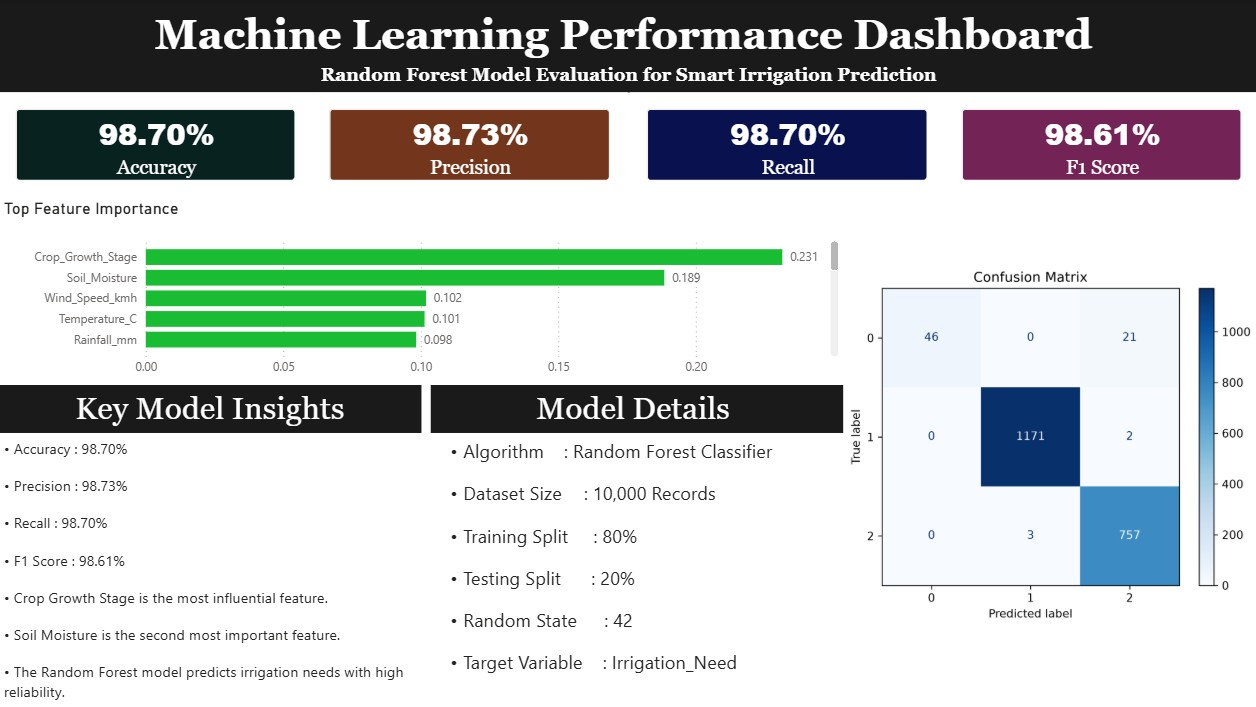

This screenshot's page, from the dashboard's own definition file:
{"tool":"powerbi","page":{"name":"Page 3","canvas":[1280,720],"ordinal":2},"visuals":[{"type":"textbox","box":[0,0,1280.7,93.6],"z":0},{"type":"cardVisual","fields":{"Data":["Sum(model_metrics.Value)"]},"box":[0,93.6,318.4,107.5],"z":1000},{"type":"cardVisual","fields":{"Data":["Sum(model_metrics.Value)"]},"box":[318.4,93.6,319.8,107.5],"z":2000},{"type":"cardVisual","fields":{"Data":["Sum(model_metrics.Value)"]},"box":[641,93.6,319.8,107.5],"z":3000},{"type":"cardVisual","fields":{"Data":["Sum(model_metrics.Value)"]},"box":[960.9,93.6,318.4,107.5],"z":4000},{"type":"clusteredBarChart","title":"Top Feature Importance","fields":{"Category":["feature_importance.Feature"],"Y":["Sum(feature_importance.Importance)"]},"box":[0,201.1,857.5,189.9],"z":5000},{"type":"image","box":[857.5,187.1,421.8,532.1],"z":6000},{"type":"textbox","box":[0,391.1,428.8,48.9],"z":7000},{"type":"textbox","box":[0,439.9,428.8,280.7],"z":8000},{"type":"textbox","box":[438.5,391.1,419,48.9],"z":9000},{"type":"textbox","box":[439,440,419,280],"z":10000},{"type":"textbox","box":[0,60.1,1279.3,33.5],"z":10001}]}

Visuals, with their boxes in screenshot pixels (x1, y1, x2, y2), scaled from the page's 1280x720 canvas onto the 1256x707 screenshot:
textbox: (x1=0, y1=0, x2=1255, y2=92)
cardVisual - Sum(model_metrics.Value): (x1=0, y1=92, x2=312, y2=197)
cardVisual - Sum(model_metrics.Value): (x1=312, y1=92, x2=626, y2=197)
cardVisual - Sum(model_metrics.Value): (x1=629, y1=92, x2=943, y2=197)
cardVisual - Sum(model_metrics.Value): (x1=943, y1=92, x2=1255, y2=197)
"Top Feature Importance" clusteredBarChart: (x1=0, y1=197, x2=841, y2=384)
image: (x1=841, y1=184, x2=1255, y2=706)
textbox: (x1=0, y1=384, x2=421, y2=432)
textbox: (x1=0, y1=432, x2=421, y2=706)
textbox: (x1=430, y1=384, x2=841, y2=432)
textbox: (x1=431, y1=432, x2=842, y2=706)
textbox: (x1=0, y1=59, x2=1255, y2=92)
